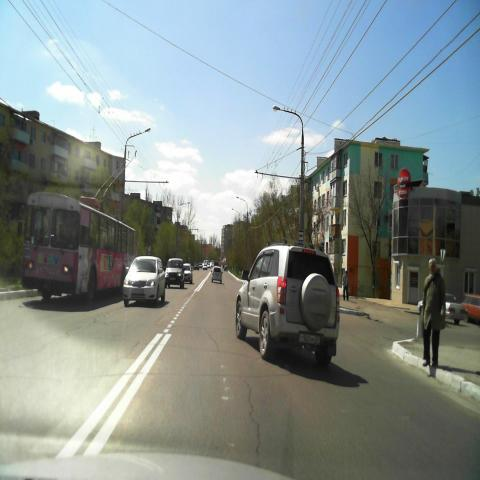5_16: (298, 230, 304, 246)
